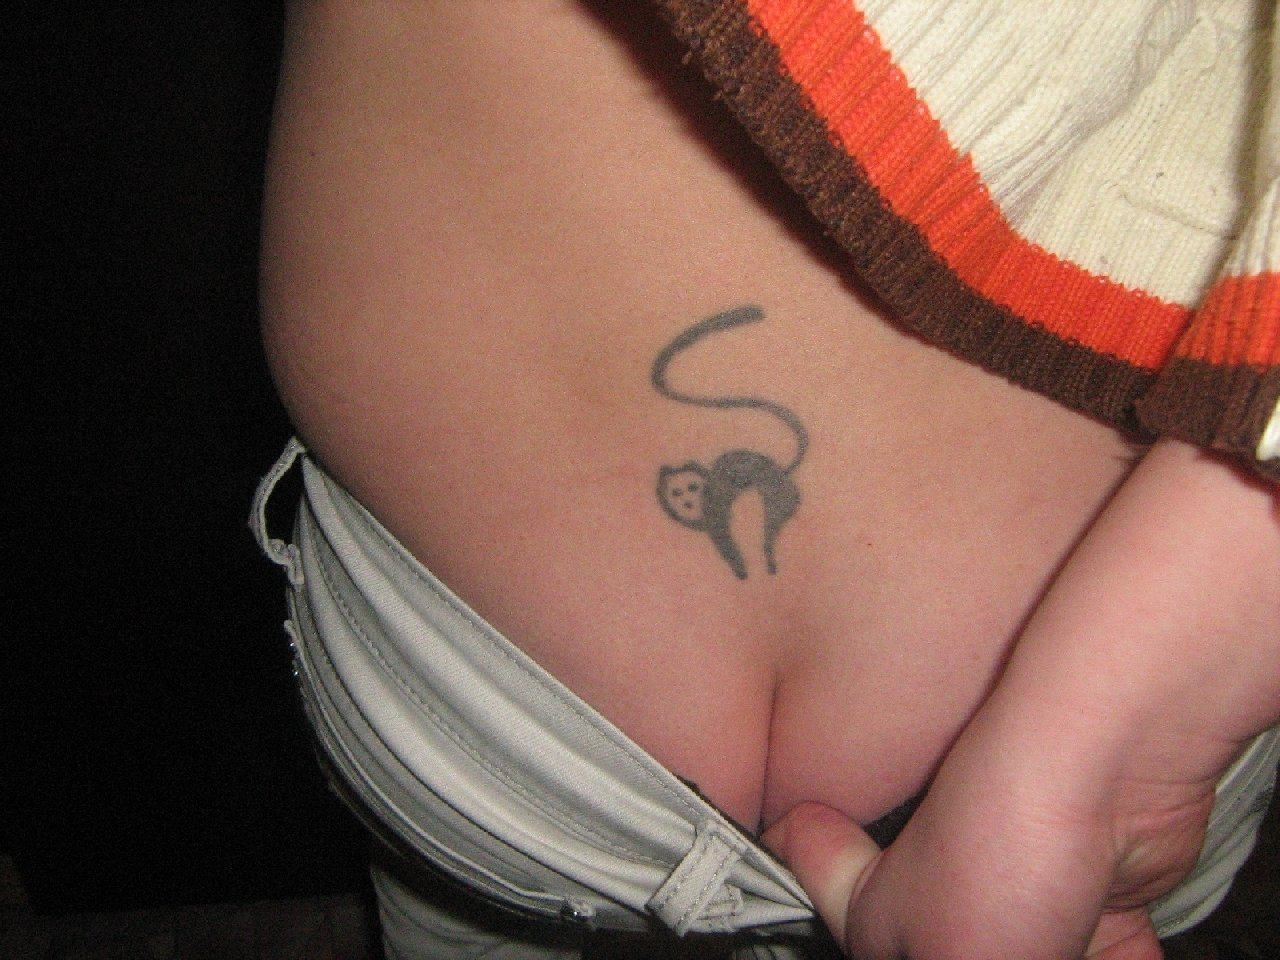tatu8_kot: (628, 284, 824, 596)
